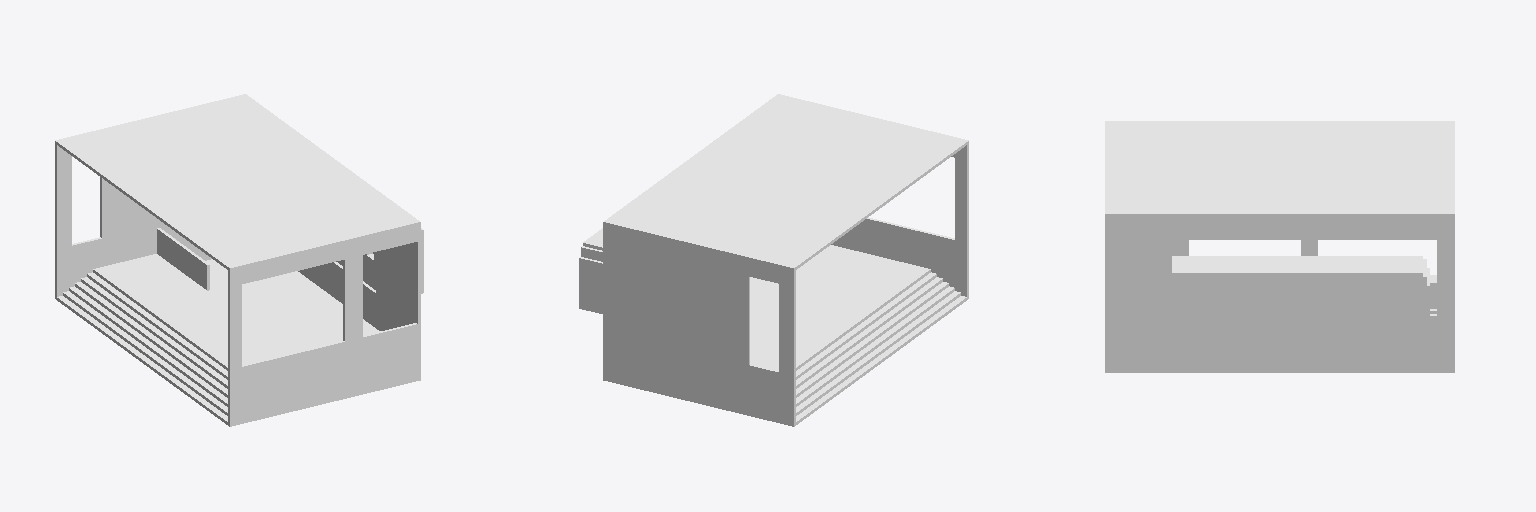
Rendered from EstacaoTeste 1.obj.
3 renders of one model, left to right at view 1: azimuth 30°, elevation 25°; view 2: azimuth 150°, elevation 25°; view 3: azimuth 270°, elevation 25°, orthographic.
Bounding box in the file's own units: 75 × 50 × 100.